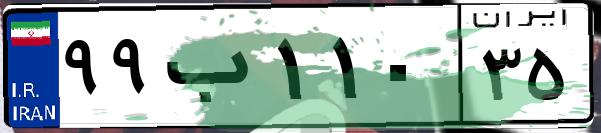0: (385, 28, 445, 110)
1: (270, 28, 330, 110), (330, 28, 385, 110)
3: (475, 38, 525, 113)
5: (525, 38, 570, 115)
9: (57, 26, 110, 100), (110, 28, 158, 98)
ب: (158, 20, 270, 120)
